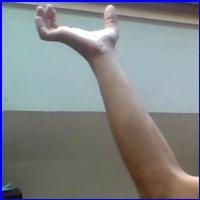space: (29, 3, 123, 66)
